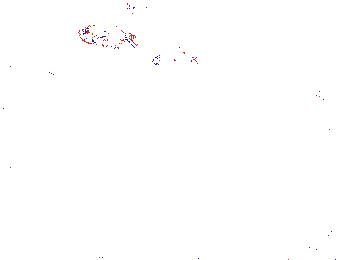X-ray fish: (4, 50, 37, 74)
glassfish: (225, 98, 327, 164)
red belly glassfish: (123, 1, 146, 19)
redtail glassfish: (44, 56, 110, 91), (75, 22, 140, 53), (149, 45, 201, 74)
